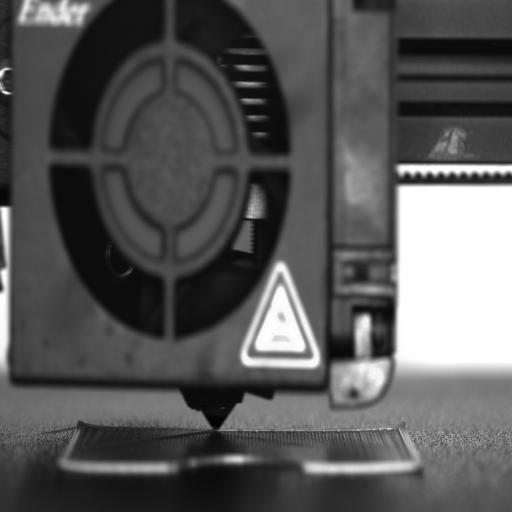warp: (56, 455, 188, 477)
